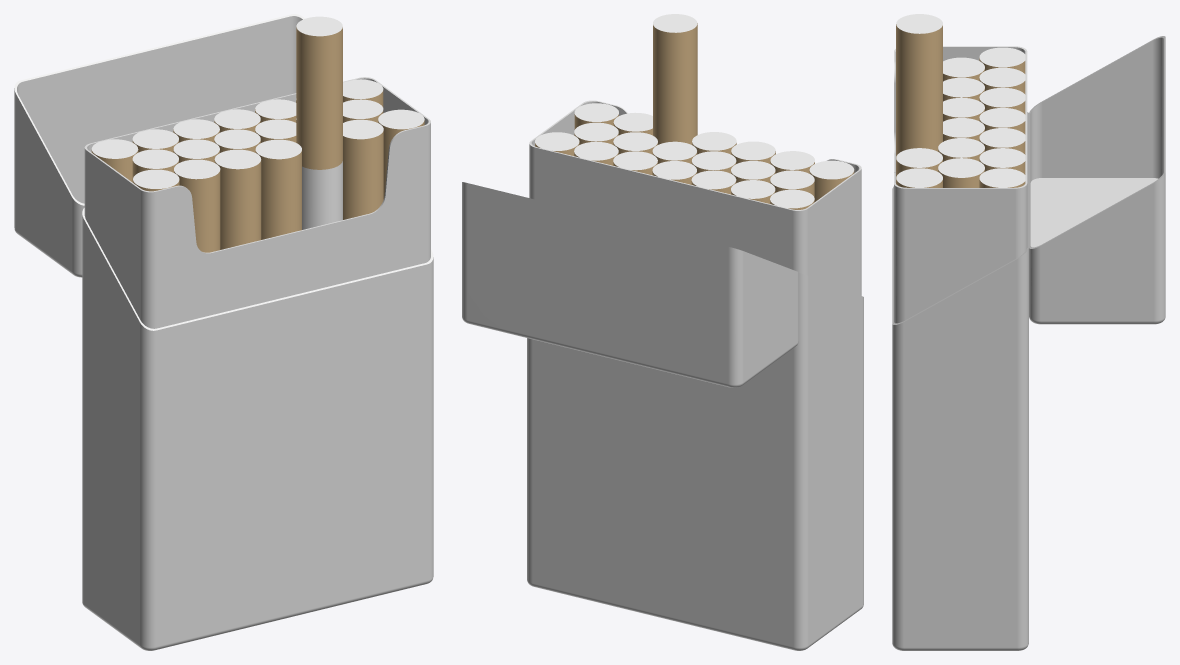
File: タバコ箱開封.fbx
The picture shows the model from 3 angles, left to right: view 1: azimuth 30°, elevation 25°; view 2: azimuth 150°, elevation 25°; view 3: azimuth 270°, elevation 25°; orthographic projection. The views are drawn at different scales.
Parts seen in each view (by area): view 1: body, huta, tobacco.011, tobacco.009, tobacco.010, tobacco.012, tobacco.008, tobacco.013, tobacco, tobacco.014, tobacco.015, tobacco.016 (+8 smaller); view 2: body, huta, tobacco.011, tobacco.007, tobacco.013, tobacco.014, tobacco.008, tobacco.010, tobacco.009, tobacco.018, tobacco.016, tobacco.017 (+10 smaller); view 3: body, huta, tobacco.011, tobacco.019, tobacco.012, tobacco.001, tobacco.005, tobacco, tobacco.004, tobacco.002, tobacco.003, tobacco.018 (+6 smaller).
Part boxes in pixels (<box>): body: <box>82,77,433,650</box>; huta: <box>14,14,304,277</box>; tobacco.011: <box>296,16,342,229</box>; tobacco.009: <box>214,149,261,249</box>; tobacco.010: <box>255,139,301,239</box>; tobacco.012: <box>343,119,383,219</box>; tobacco.008: <box>174,159,220,252</box>; tobacco.013: <box>378,109,424,198</box>; tobacco: <box>91,139,138,182</box>; tobacco.014: <box>132,149,178,182</box>; tobacco.015: <box>173,139,219,162</box>; tobacco.016: <box>214,129,260,152</box>; body: <box>527,100,863,650</box>; huta: <box>462,182,798,387</box>; tobacco.011: <box>653,14,697,144</box>; tobacco.007: <box>809,160,854,201</box>; tobacco.013: <box>574,103,618,129</box>; tobacco.014: <box>770,170,814,197</box>; tobacco.008: <box>770,151,814,173</box>; tobacco.010: <box>692,132,736,154</box>; tobacco.009: <box>731,141,775,163</box>; tobacco.018: <box>613,132,657,154</box>; tobacco.016: <box>691,151,736,173</box>; tobacco.017: <box>652,141,697,163</box>; body: <box>892,46,1028,650</box>; huta: <box>1029,36,1165,324</box>; tobacco.011: <box>896,14,942,157</box>; tobacco.019: <box>938,158,984,187</box>; tobacco.012: <box>896,148,942,177</box>; tobacco.001: <box>979,67,1025,94</box>; tobacco.005: <box>979,148,1025,174</box>; tobacco: <box>979,47,1025,73</box>; tobacco.004: <box>979,128,1025,154</box>; tobacco.002: <box>979,87,1025,114</box>; tobacco.003: <box>979,108,1025,134</box>; tobacco.018: <box>938,138,984,161</box>.
Size of the model in its own units: 5.72 by 10.71 by 4.6.
